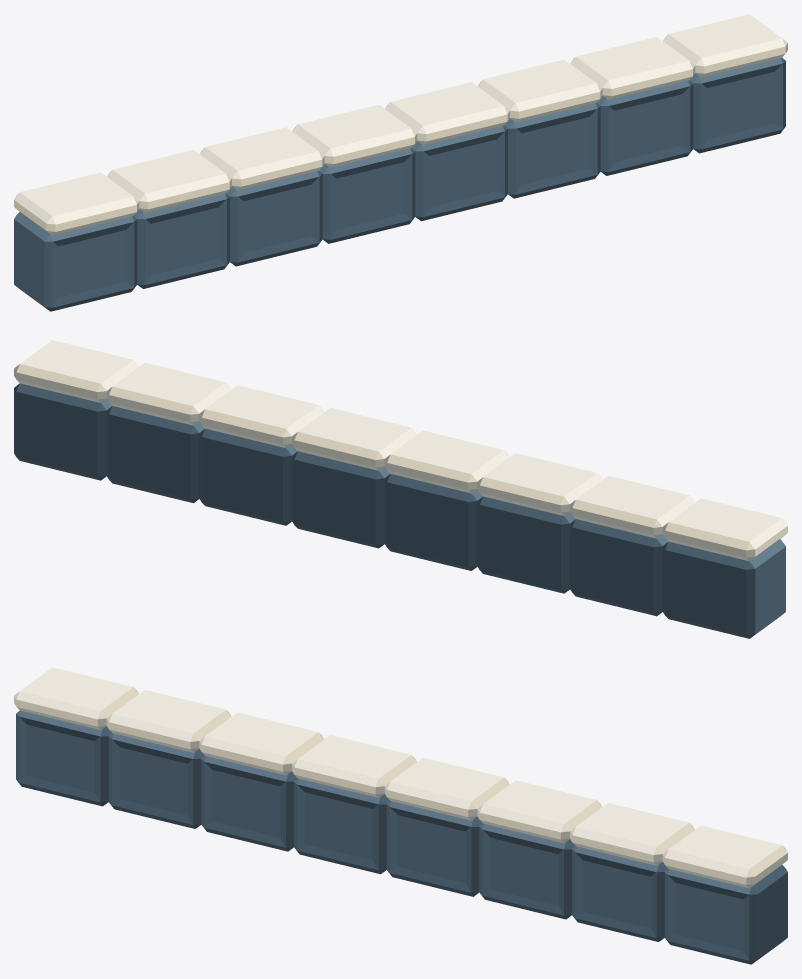
The model's file is Terrain_TopRun8.gltf.
3 renders of one model, top to bottom at view 1: azimuth 30°, elevation 25°; view 2: azimuth 150°, elevation 25°; view 3: azimuth 330°, elevation 25°, orthographic.
Parts seen in each view (by area): view 1: Terrain_TopRun8_baked; view 2: Terrain_TopRun8_baked; view 3: Terrain_TopRun8_baked.
Boxes of the visible parts, box(x1,y1,x2,y2) form: Terrain_TopRun8_baked: box(14, 14, 787, 311); Terrain_TopRun8_baked: box(14, 340, 787, 638); Terrain_TopRun8_baked: box(14, 667, 787, 964).
Bounding box in the file's own units: 8 × 1 × 0.735.
